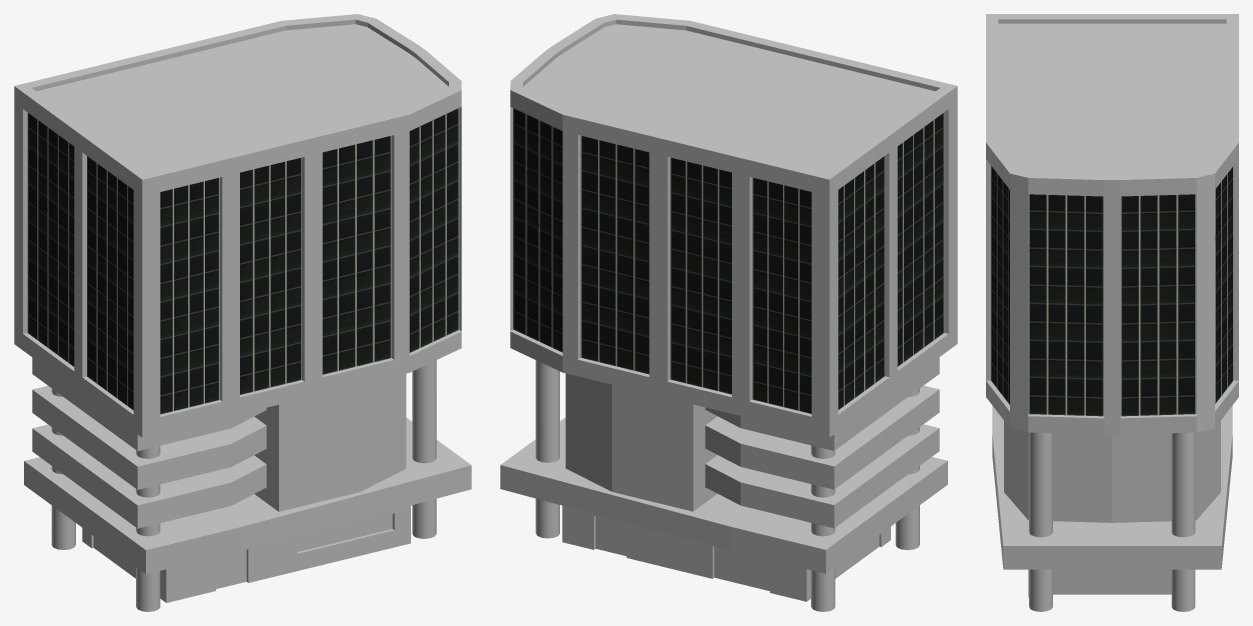
3 views of the same model, side by side, from view 1: azimuth 30°, elevation 25°; view 2: azimuth 150°, elevation 25°; view 3: azimuth 270°, elevation 25° (orthographic).
Visible parts, largest first — view 1: BB-071; view 2: BB-071; view 3: BB-071.
Boxes of the visible parts, x1=… form: BB-071: x1=14, y1=14, x2=471, y2=611; BB-071: x1=500, y1=14, x2=957, y2=611; BB-071: x1=986, y1=14, x2=1238, y2=611.
Size of what is drawn, in the model's own units: 27.98 by 34.86 by 18.
